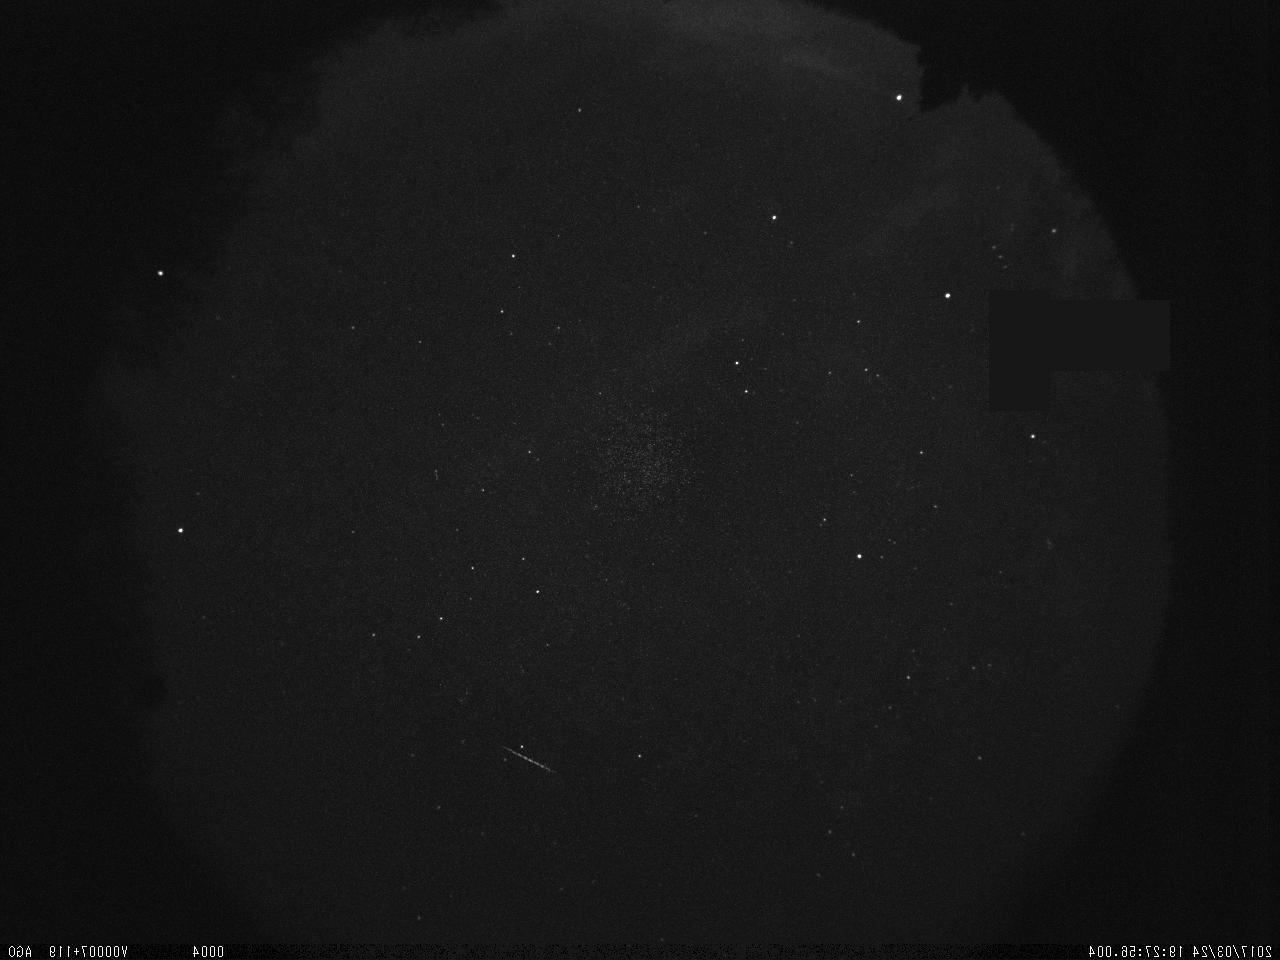meteor: (484, 735, 554, 779)
